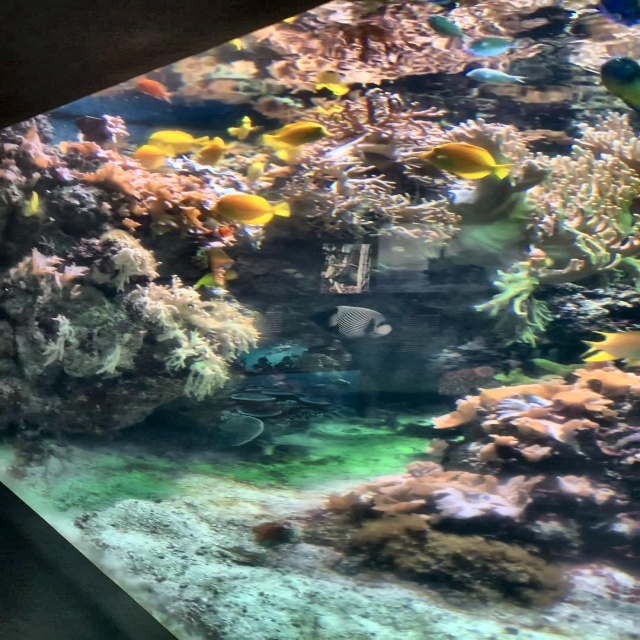fish: (421, 141, 517, 184), (206, 192, 291, 230), (308, 305, 395, 341), (263, 120, 338, 157), (578, 326, 639, 369), (597, 56, 639, 118), (200, 244, 247, 290), (147, 129, 209, 159), (192, 136, 234, 170), (133, 143, 176, 173), (226, 114, 269, 143), (462, 37, 520, 58), (426, 14, 469, 42), (466, 68, 526, 88), (311, 67, 346, 96), (137, 78, 175, 103)
